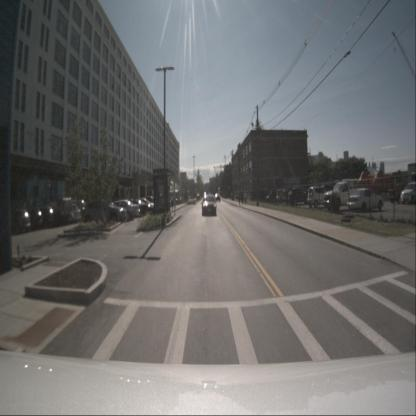human-pedestrian-adult: (166, 185, 171, 211), (170, 193, 173, 212), (241, 191, 244, 206), (244, 191, 247, 205), (238, 192, 241, 206)
vehicle-car: (82, 198, 128, 226), (347, 187, 384, 213), (106, 199, 140, 222), (7, 208, 31, 236), (64, 199, 87, 224), (21, 205, 43, 231), (307, 186, 332, 208), (35, 206, 55, 230), (59, 204, 81, 225), (287, 188, 312, 206), (133, 197, 156, 216), (125, 200, 150, 216), (400, 182, 416, 205), (202, 194, 216, 216), (269, 188, 286, 204), (276, 189, 294, 204), (266, 189, 282, 204), (214, 192, 220, 202)
vehicle-truck: (322, 181, 364, 212), (388, 183, 409, 204)
